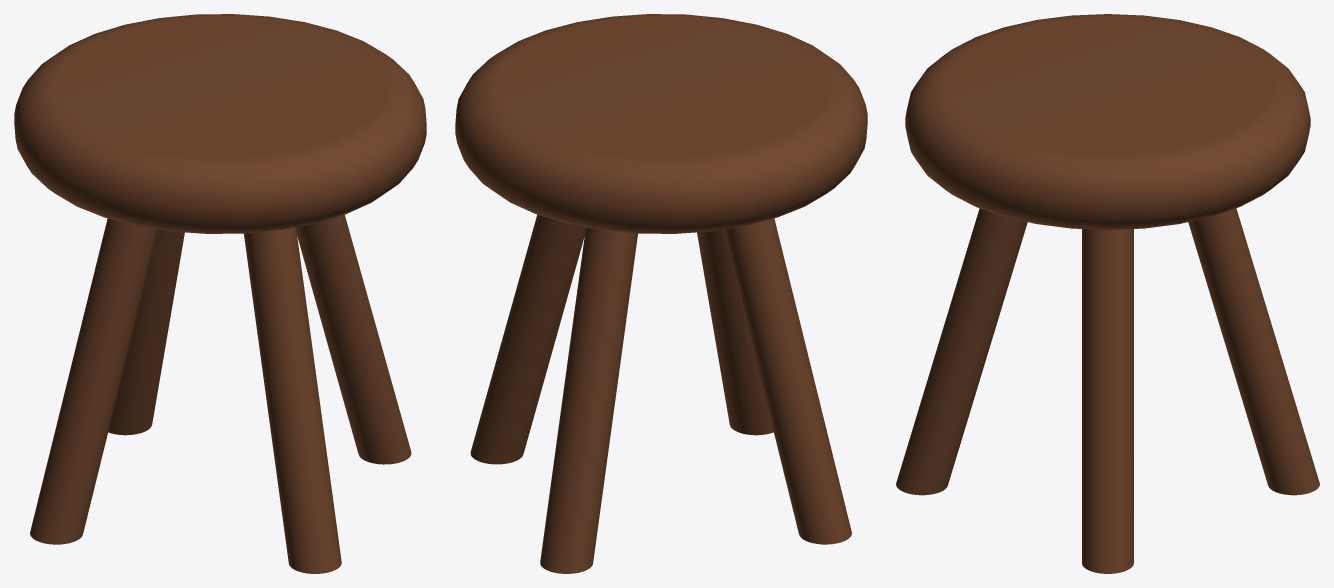
The model's file is Tabouret2_6.fbx.
The picture shows the model from 3 angles, left to right: view 1: azimuth 30°, elevation 25°; view 2: azimuth 150°, elevation 25°; view 3: azimuth 270°, elevation 25°; orthographic projection.
Visible parts, largest first — view 1: pCylinder1616, pCylinder1635; view 2: pCylinder1616, pCylinder1635; view 3: pCylinder1616, pCylinder1635.
Part boxes in pixels (left/top/right/bottom): pCylinder1616: left=14, top=14, right=426, bottom=233; pCylinder1635: left=30, top=214, right=411, bottom=573; pCylinder1616: left=455, top=14, right=867, bottom=233; pCylinder1635: left=470, top=214, right=851, bottom=573; pCylinder1616: left=905, top=14, right=1310, bottom=229; pCylinder1635: left=896, top=208, right=1319, bottom=573.
Size of the model in its own units: 40.86 by 42.26 by 40.85.
